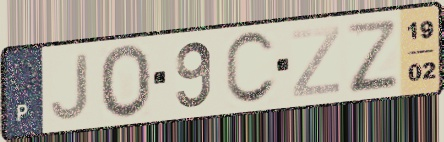9: (174, 39, 213, 110)
C: (222, 28, 279, 108)
J: (48, 50, 91, 123)
O: (97, 42, 154, 122)
Z: (343, 17, 402, 96), (289, 23, 342, 100)
